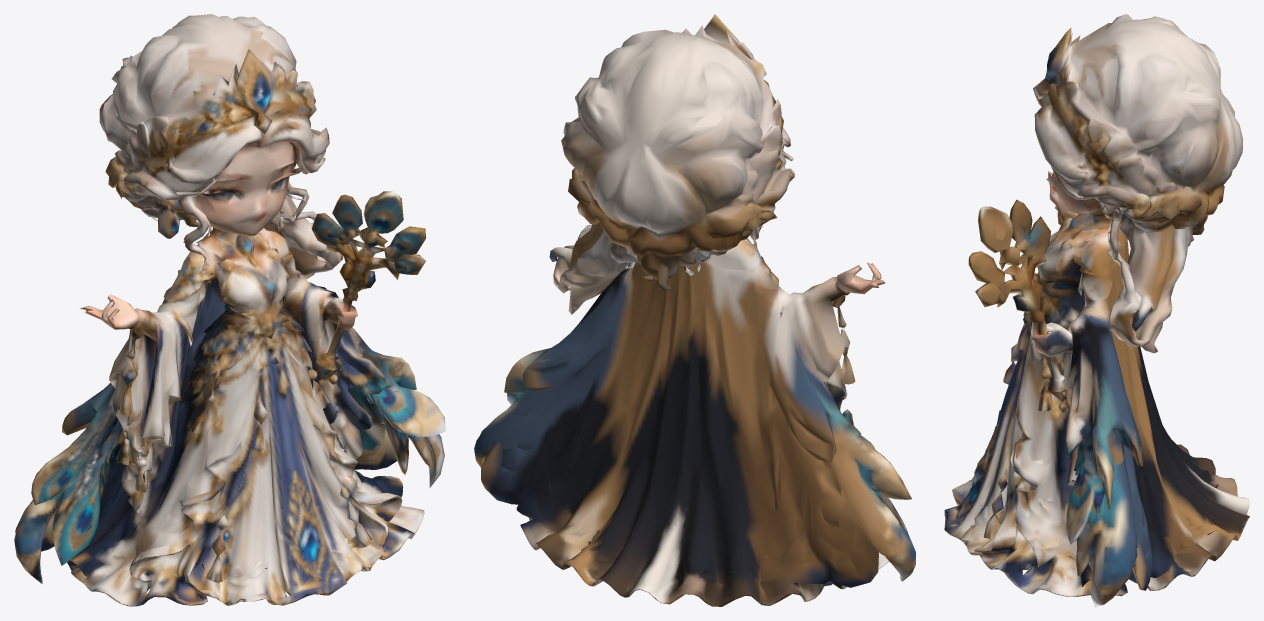
File: hera_painted.glb
3 renders of one model, left to right at view 1: azimuth 30°, elevation 25°; view 2: azimuth 150°, elevation 25°; view 3: azimuth 270°, elevation 25°, orthographic. The views are drawn at different scales.
Parts seen in each view (by area): view 1: Body; view 2: Body; view 3: Body.
Boxes of the visible parts, x1,y1,x2,y2 form: Body: [14, 14, 445, 606]; Body: [474, 14, 915, 606]; Body: [944, 14, 1249, 606].
Size of the model in its own units: 0.8719 by 0.9982 by 0.5525.
1 material, 1 textured.
